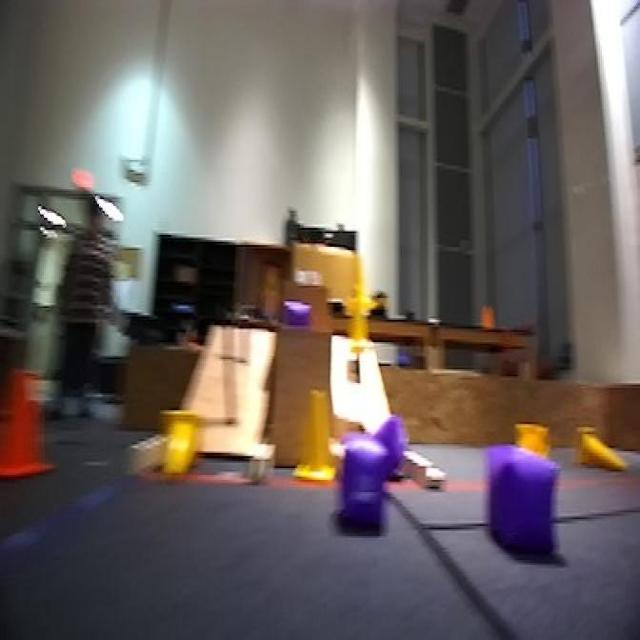frc_cone: (294, 383, 337, 487), (574, 428, 630, 478), (164, 408, 199, 482), (512, 415, 552, 477), (345, 294, 375, 361), (352, 250, 368, 310)
frc_cube: (482, 444, 566, 555), (338, 432, 387, 533), (363, 421, 403, 478), (283, 305, 311, 332)
